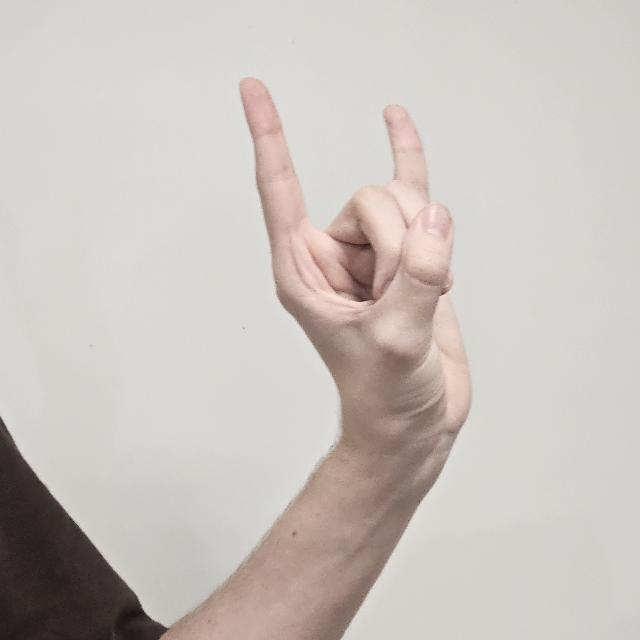L: (238, 78, 474, 464)
